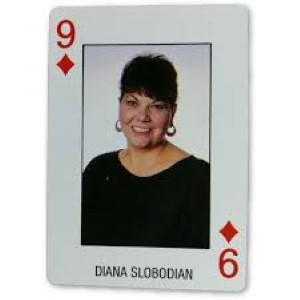NineOfDiamonds: (43, 4, 250, 295)
